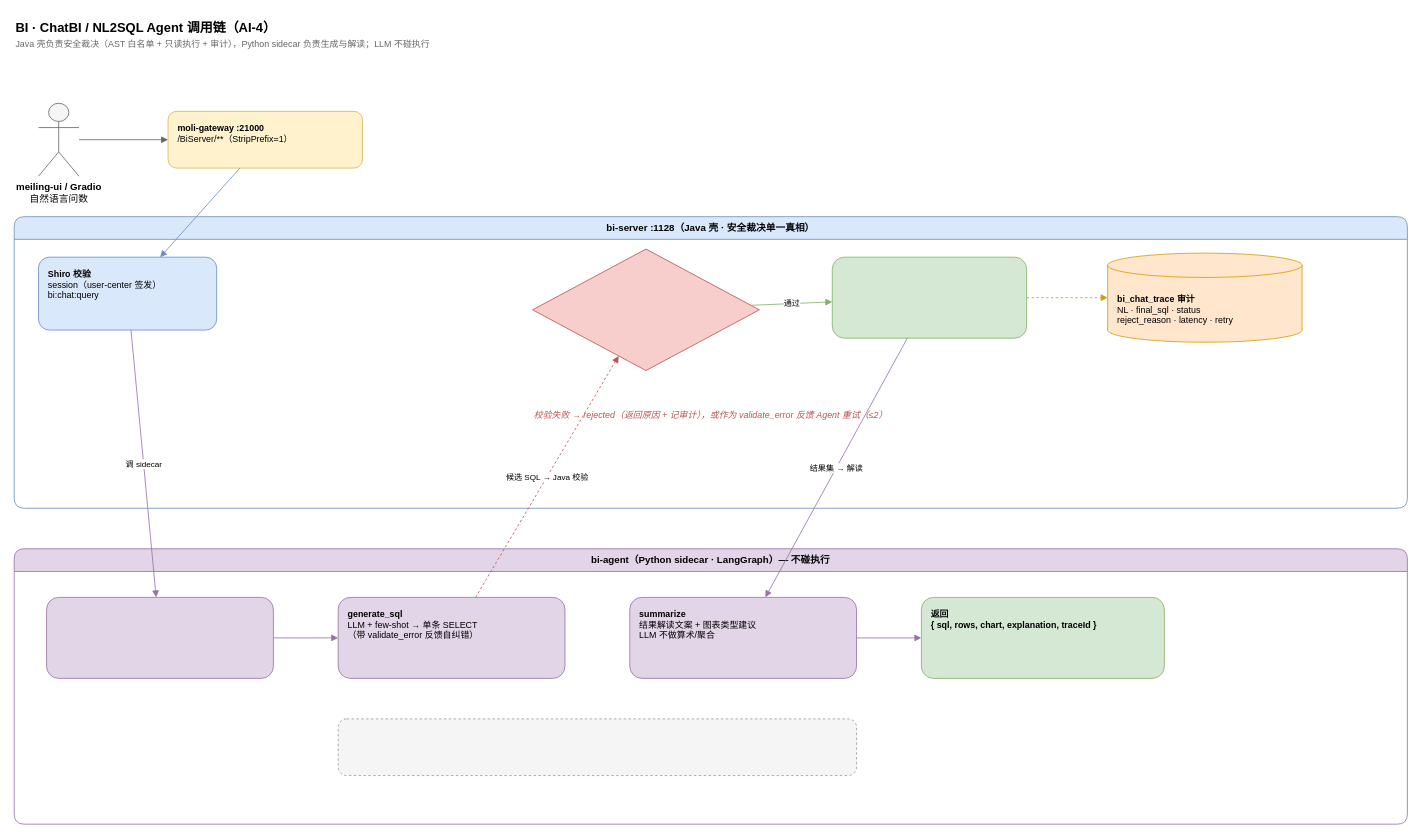
The diagram is 1422 pixels wide and 838 high, and some of its shapes have lost their labels. The box of each missing label's shape, as (x1, y1, x2, y2) in pixels:
LLM（OpenAI 兼容） 平台配置 DB 优先 + yaml 兜底 + 调用日志: (337, 718, 857, 776)
retrieve_schema 检索相关表/列（1 表=1 单元） 收敛 schema 降 token: (46, 597, 273, 678)
SQL 白名单校验（JSqlParser） 仅 SELECT · 单语句 · 表/列白名单 强制 LIMIT · 超时/行数上限: (532, 248, 759, 371)
只读执行 独立只读账号 · LIMIT/超时 order / user 业务库: (831, 256, 1027, 338)
